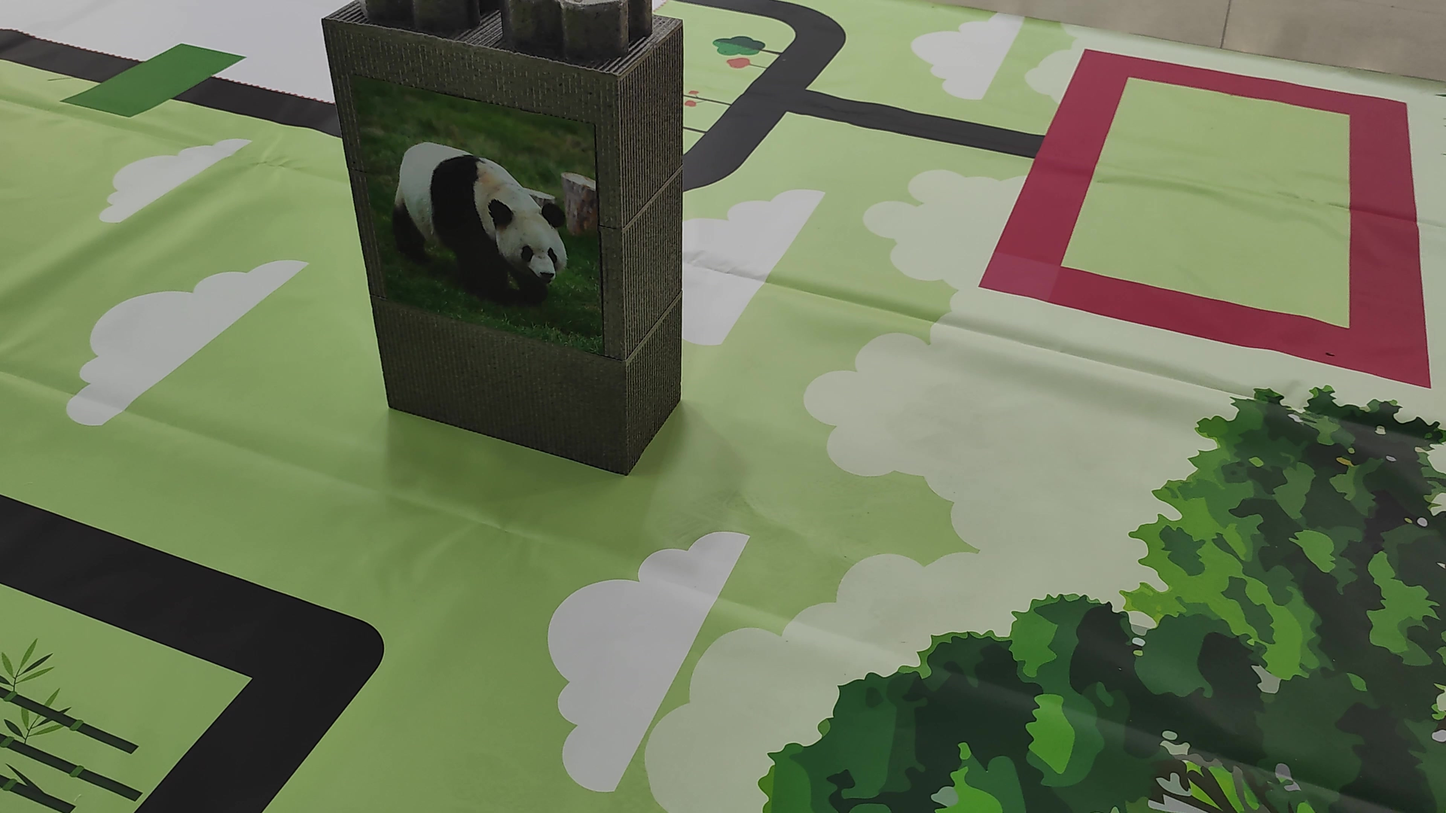panda: (390, 128, 572, 293)
